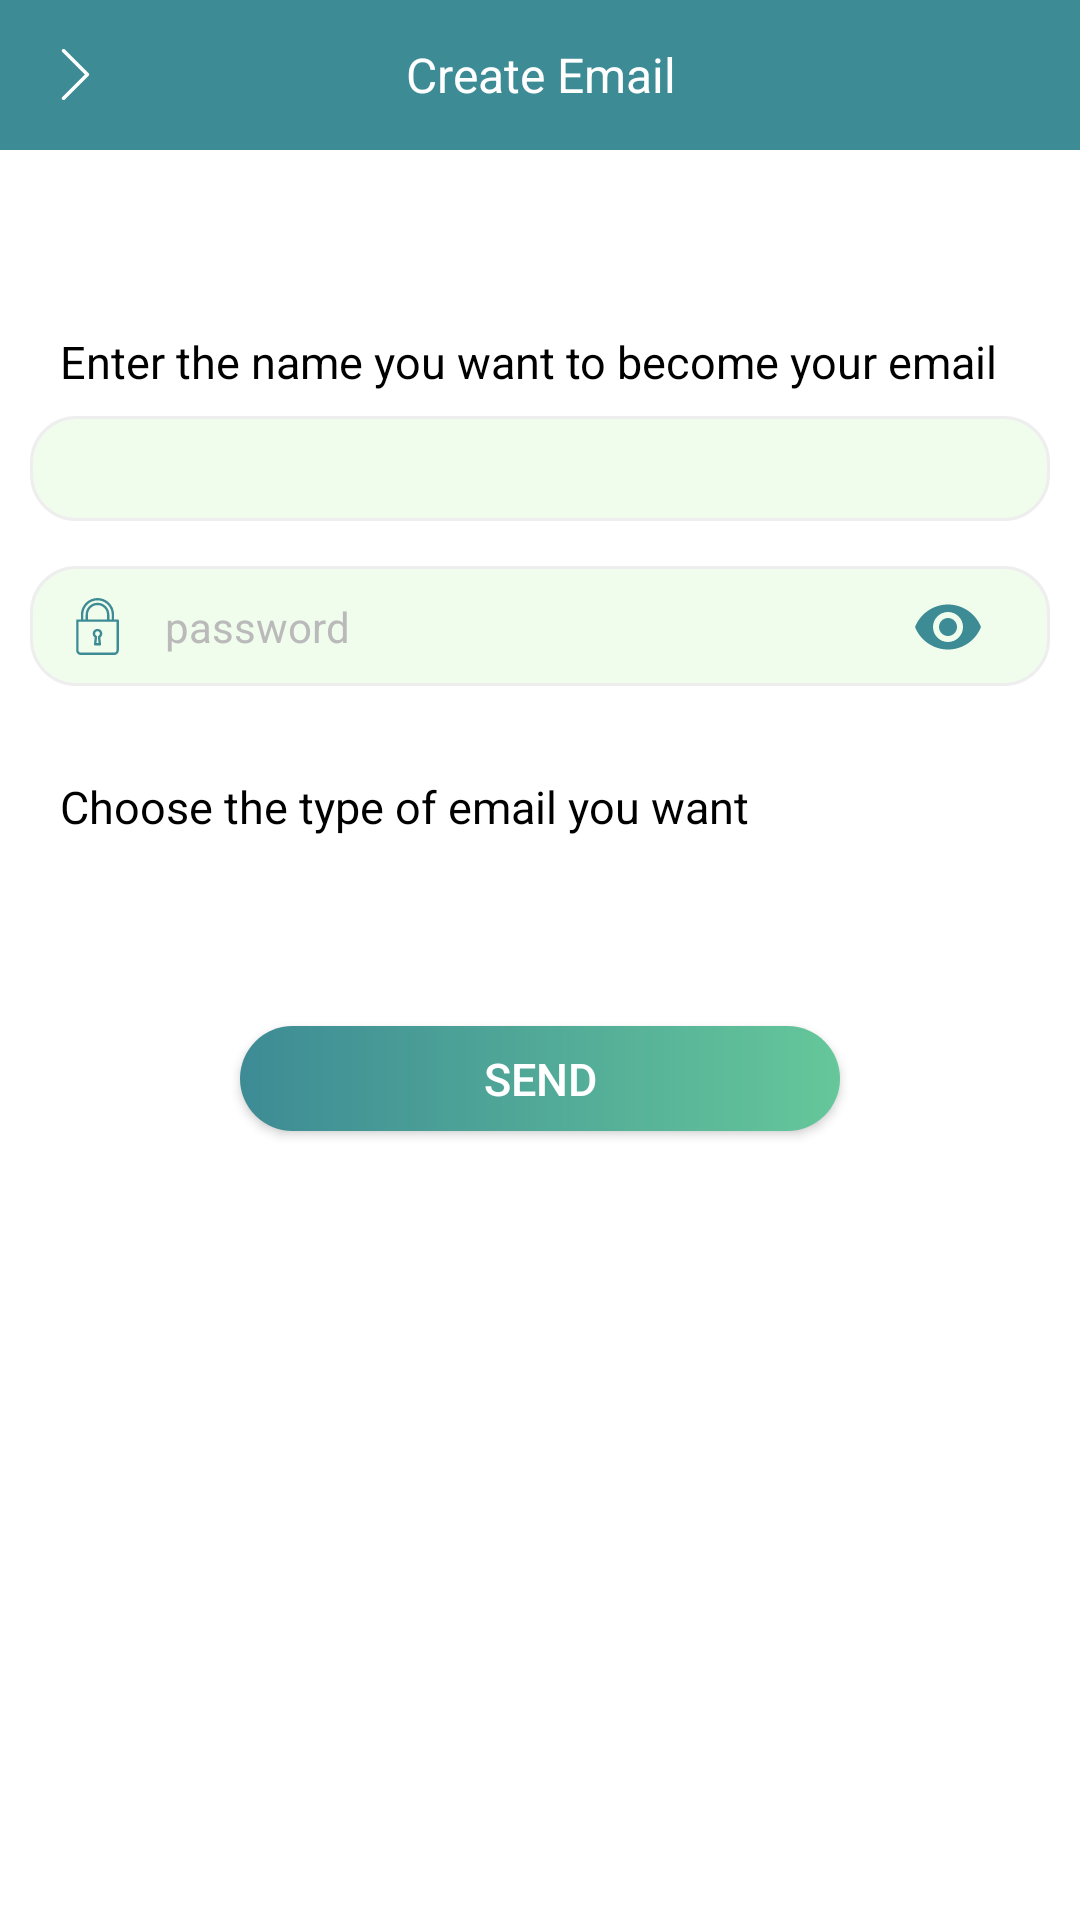

Where to tap for icons on this 1080*1920 app screen, as [x,y]:
lock: [97,626]
right arrow: [75,74]
